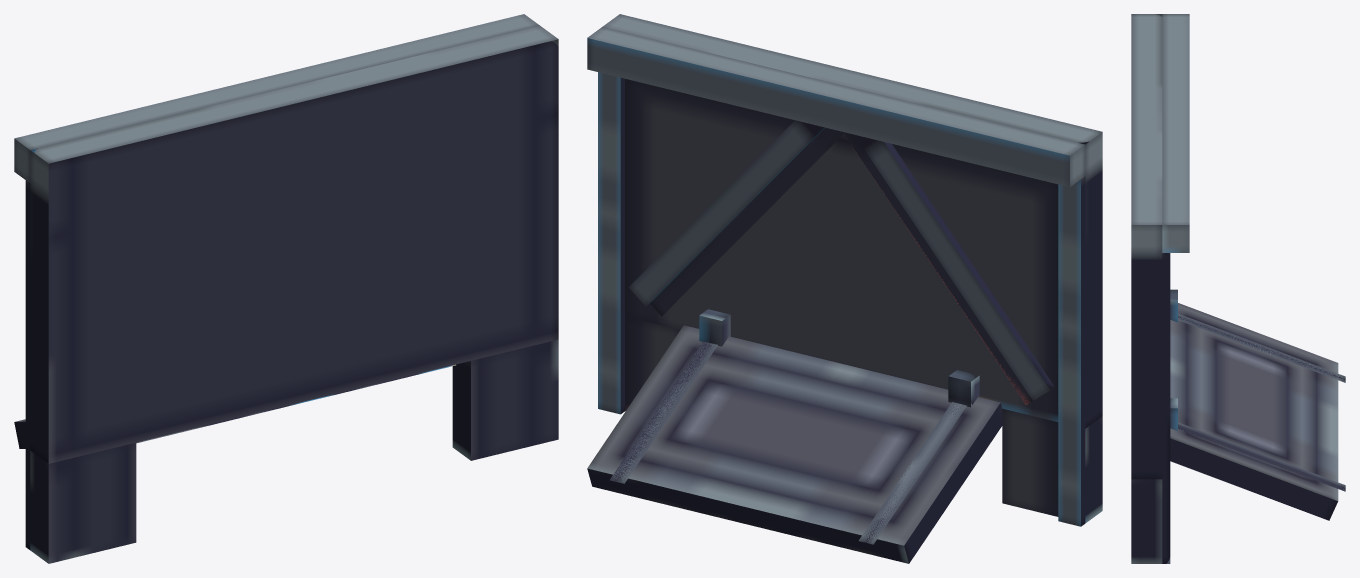
File: freight_c70_slab_top_open_lh.obj
3 renders of one model, left to right at view 1: azimuth 30°, elevation 25°; view 2: azimuth 150°, elevation 25°; view 3: azimuth 270°, elevation 25°, orthographic. The views are drawn at different scales.
Parts seen in each view (by area): view 1: cube; view 2: cube; view 3: cube.
Part boxes in pixels (x1=…): cube: x1=14, y1=14, x2=558, y2=563; cube: x1=587, y1=14, x2=1102, y2=563; cube: x1=1131, y1=14, x2=1345, y2=563.
Size of the model in its own units: 2 by 1.5 by 0.8599.
